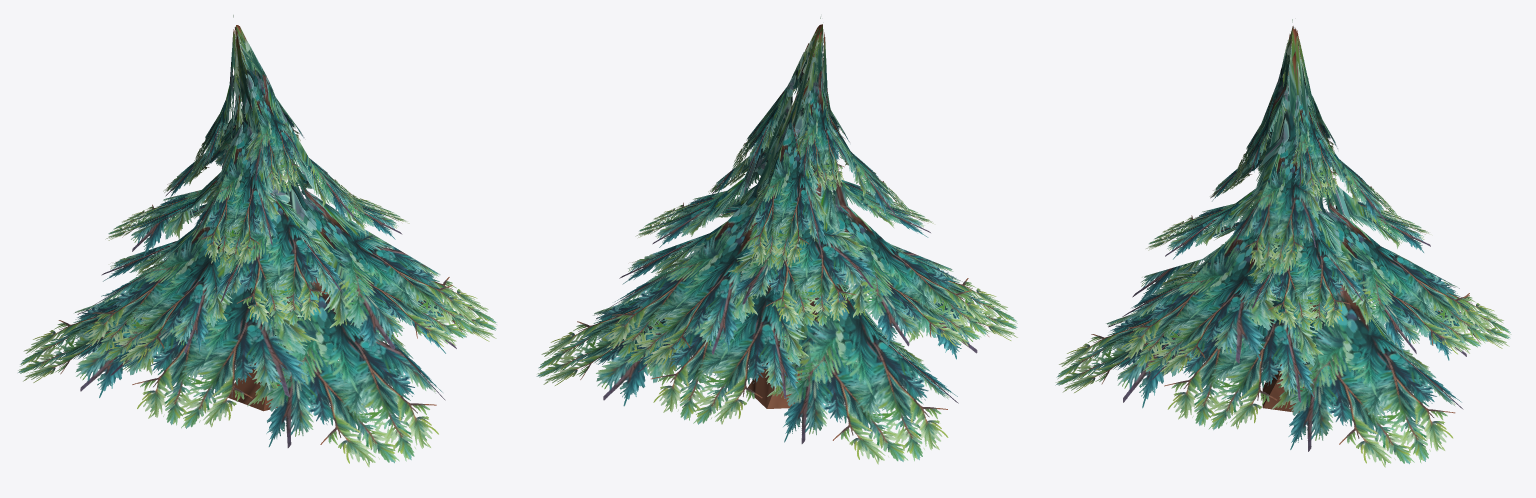
Rendered from SAPIN.fbx.
3 renders of one model, left to right at view 1: azimuth 30°, elevation 25°; view 2: azimuth 150°, elevation 25°; view 3: azimuth 270°, elevation 25°, orthographic. The views are drawn at different scales.
Parts seen in each view (by area): view 1: Circle.004; view 2: Circle.004; view 3: Circle.004.
Boxes of the visible parts, left/top/right/bottom form: Circle.004: left=18, top=15, right=496, bottom=467; Circle.004: left=536, top=17, right=1017, bottom=464; Circle.004: left=1055, top=19, right=1511, bottom=467.
Bounding box in the file's own units: 197 × 159 × 182.
